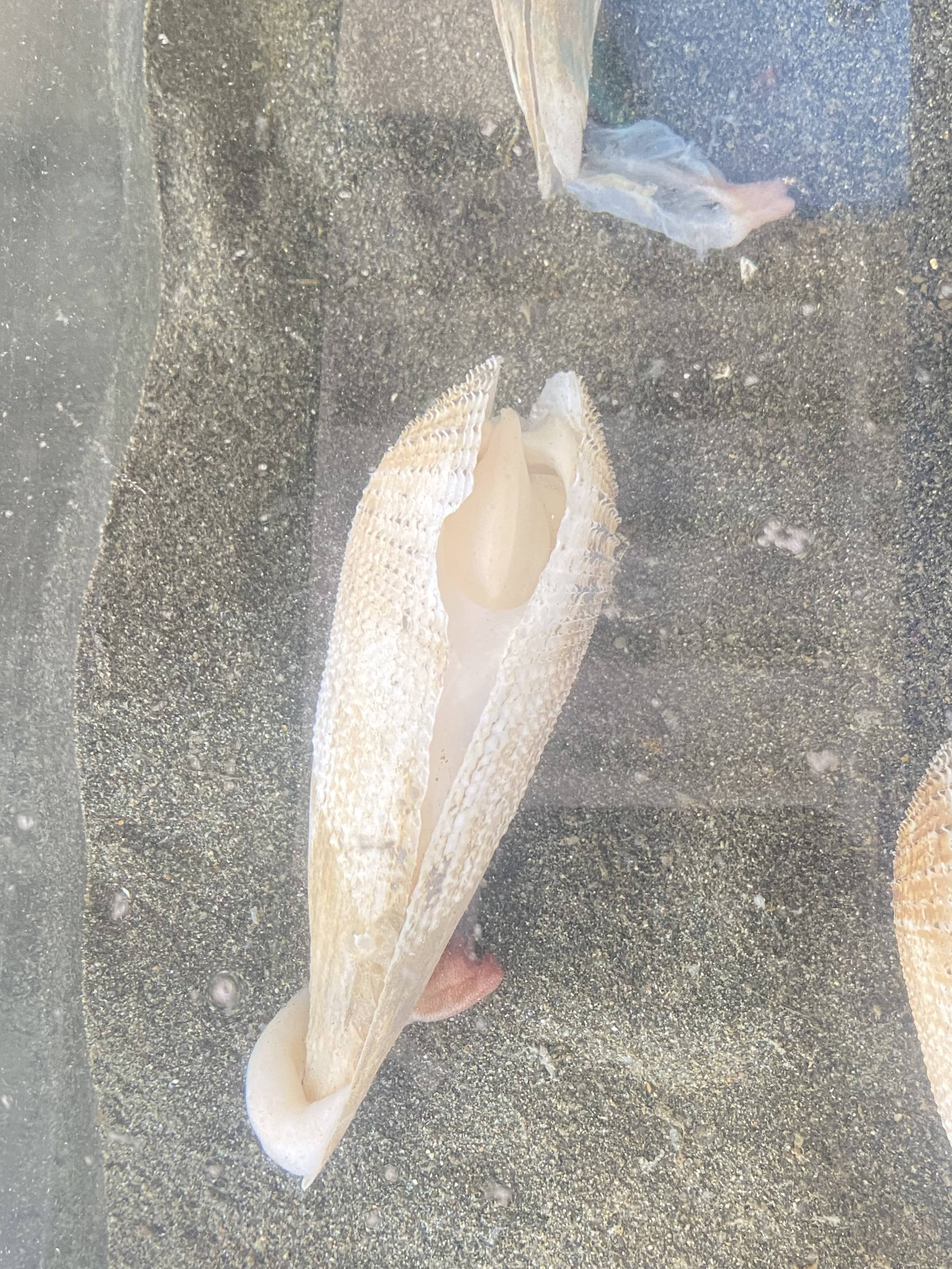At risk: (246, 358, 617, 1187), (492, 0, 794, 255)
